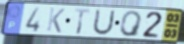2: (142, 11, 164, 40)
4: (24, 6, 42, 34)
K: (45, 7, 66, 34)
Q: (119, 10, 144, 38)
T: (73, 8, 92, 36)
U: (90, 8, 117, 37)
